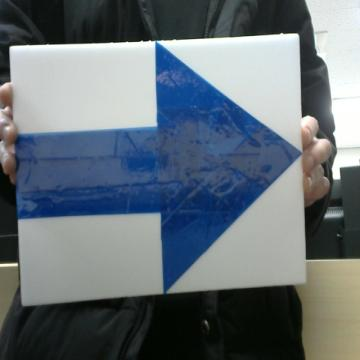blue_right: (16, 42, 300, 292)
